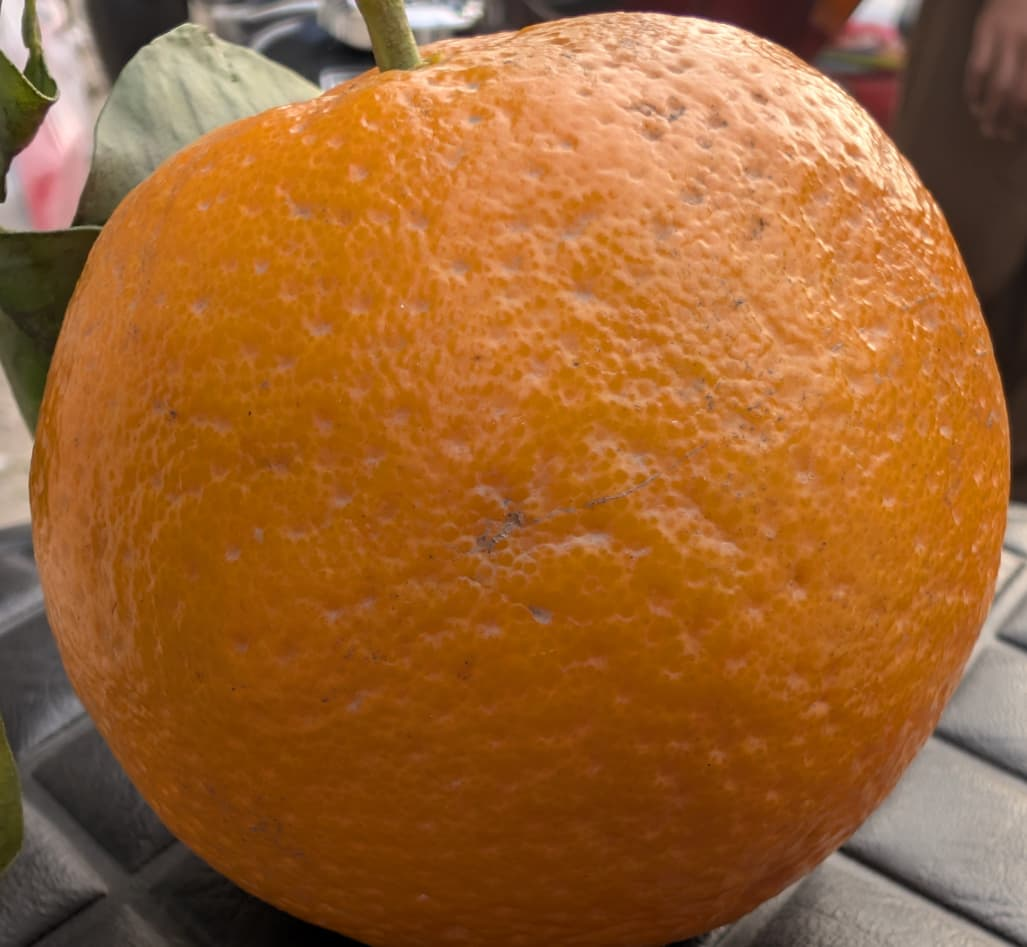orange: (91, 0, 940, 835)
